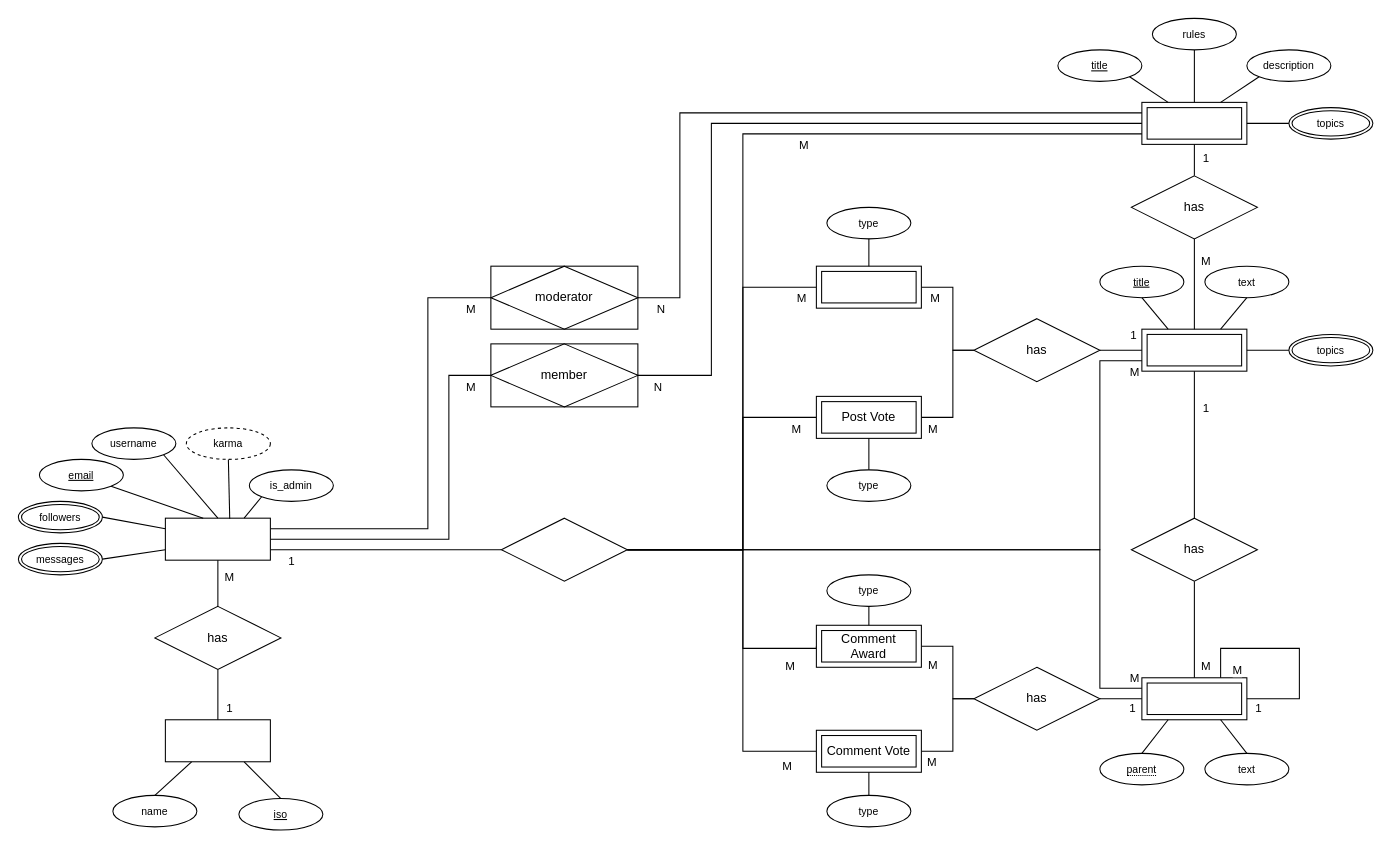
The diagram is 1391 pixels wide and 848 high, and some of its shapes have lost their labels. Each missing label, with the centre of its shape:
"Comment" belongs at [1194,698].
"Country" belongs at [217,740].
"creates" belongs at [563,549].
"Post" belongs at [1194,349].
"Post Award" belongs at [868,286].
"Subreddit" belongs at [1194,122].
"User" belongs at [217,538].
